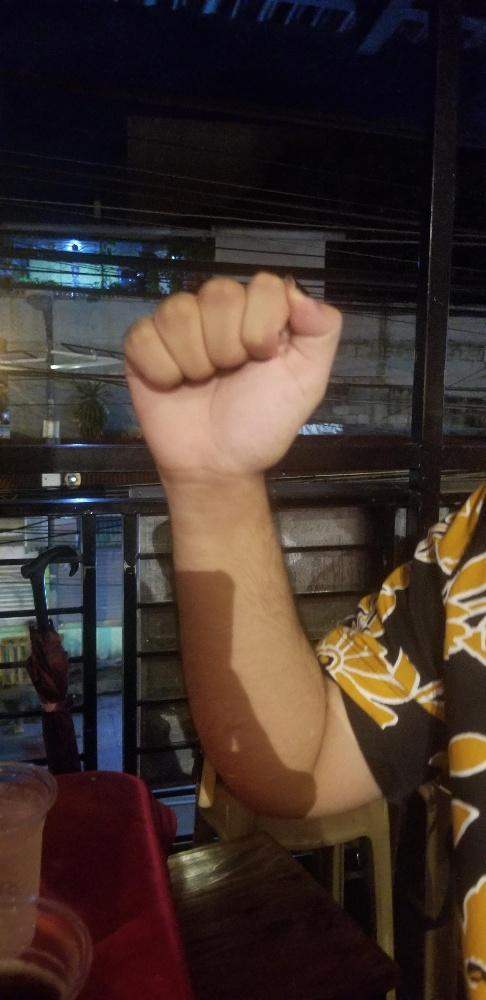a: (116, 266, 346, 475)
